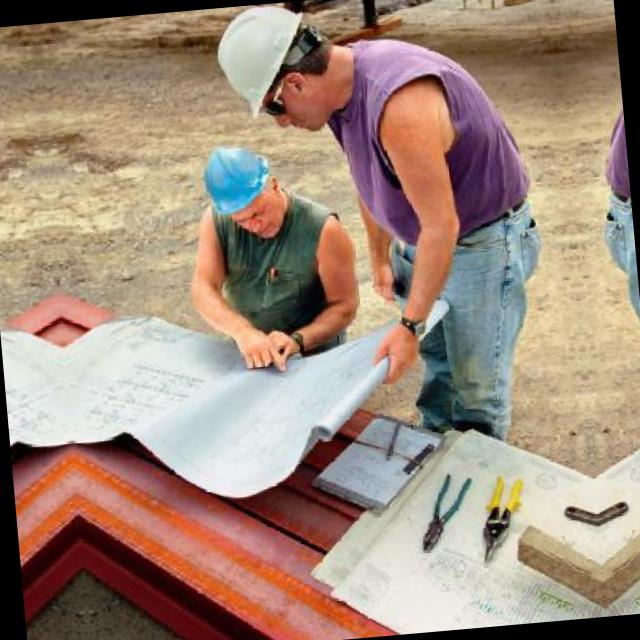helmet: (196, 0, 353, 144), (190, 135, 292, 244)
